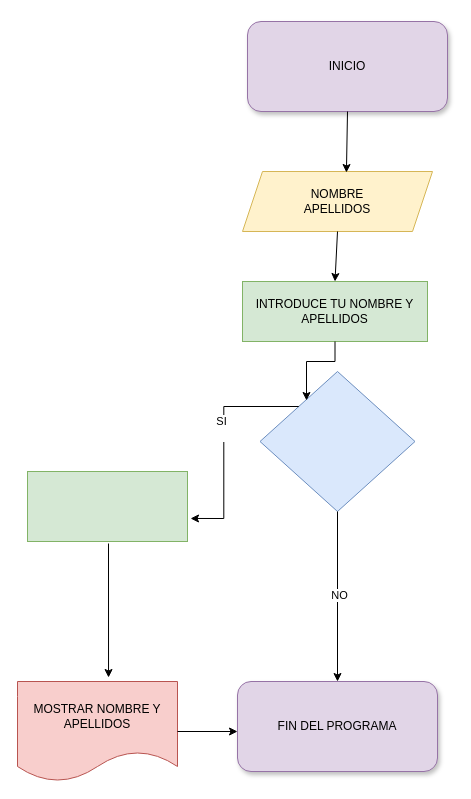
Image size: 471x799. Some labels were removed from this diagram. Here are the shapes that lost their labels. From the top down, the centre of each, then its label:
At point (337, 441): "¿DESEA CONTINUAR?".
At point (107, 506): "INTRODUCE SU APELLIDO".
